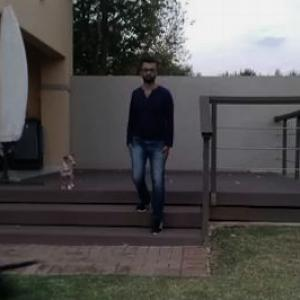follow: (132, 54, 177, 236)
